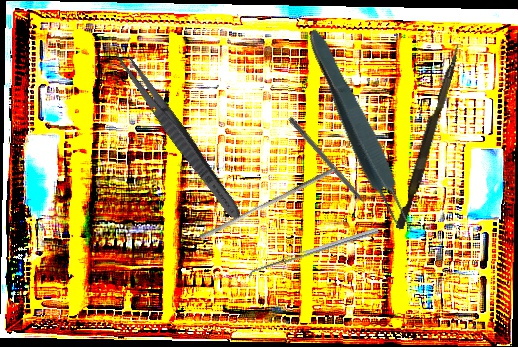Dressing Forceps: (109, 45, 248, 226)
Pusher: (395, 41, 462, 232), (197, 161, 338, 246), (286, 116, 378, 219)
Spatula Surgical: (246, 227, 381, 281)
Tissue Forceps: (297, 23, 422, 243)
